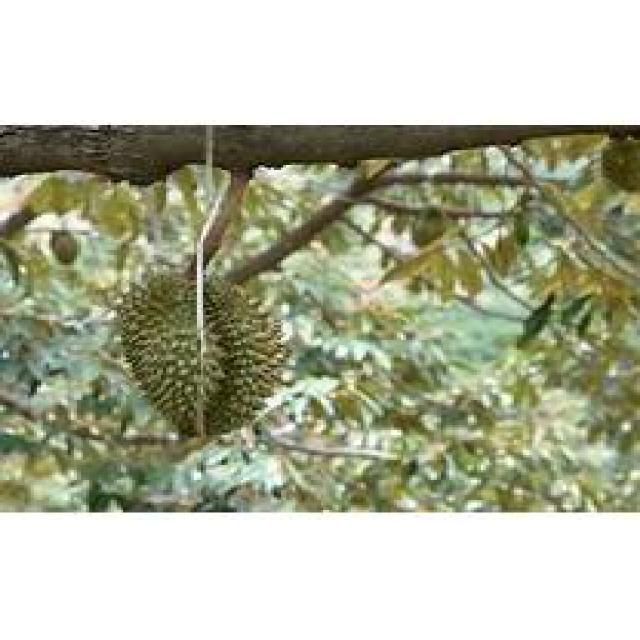Fruit: (243, 212, 523, 632)
